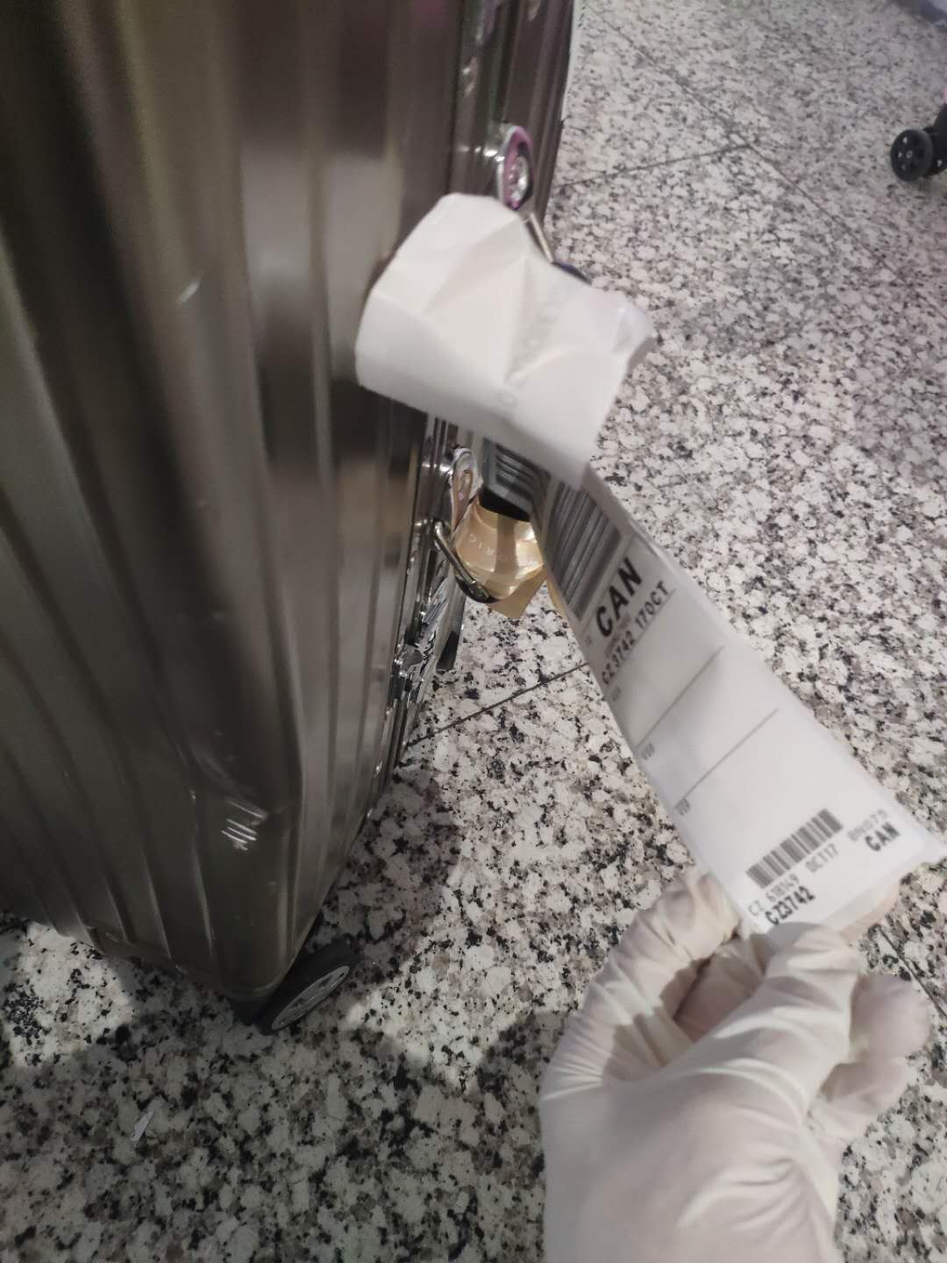rupture: (125, 691, 291, 874)
